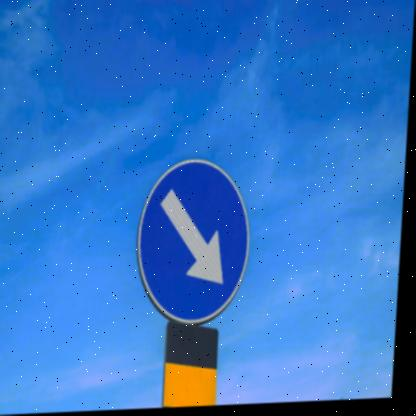Keep right: (133, 155, 261, 334)
